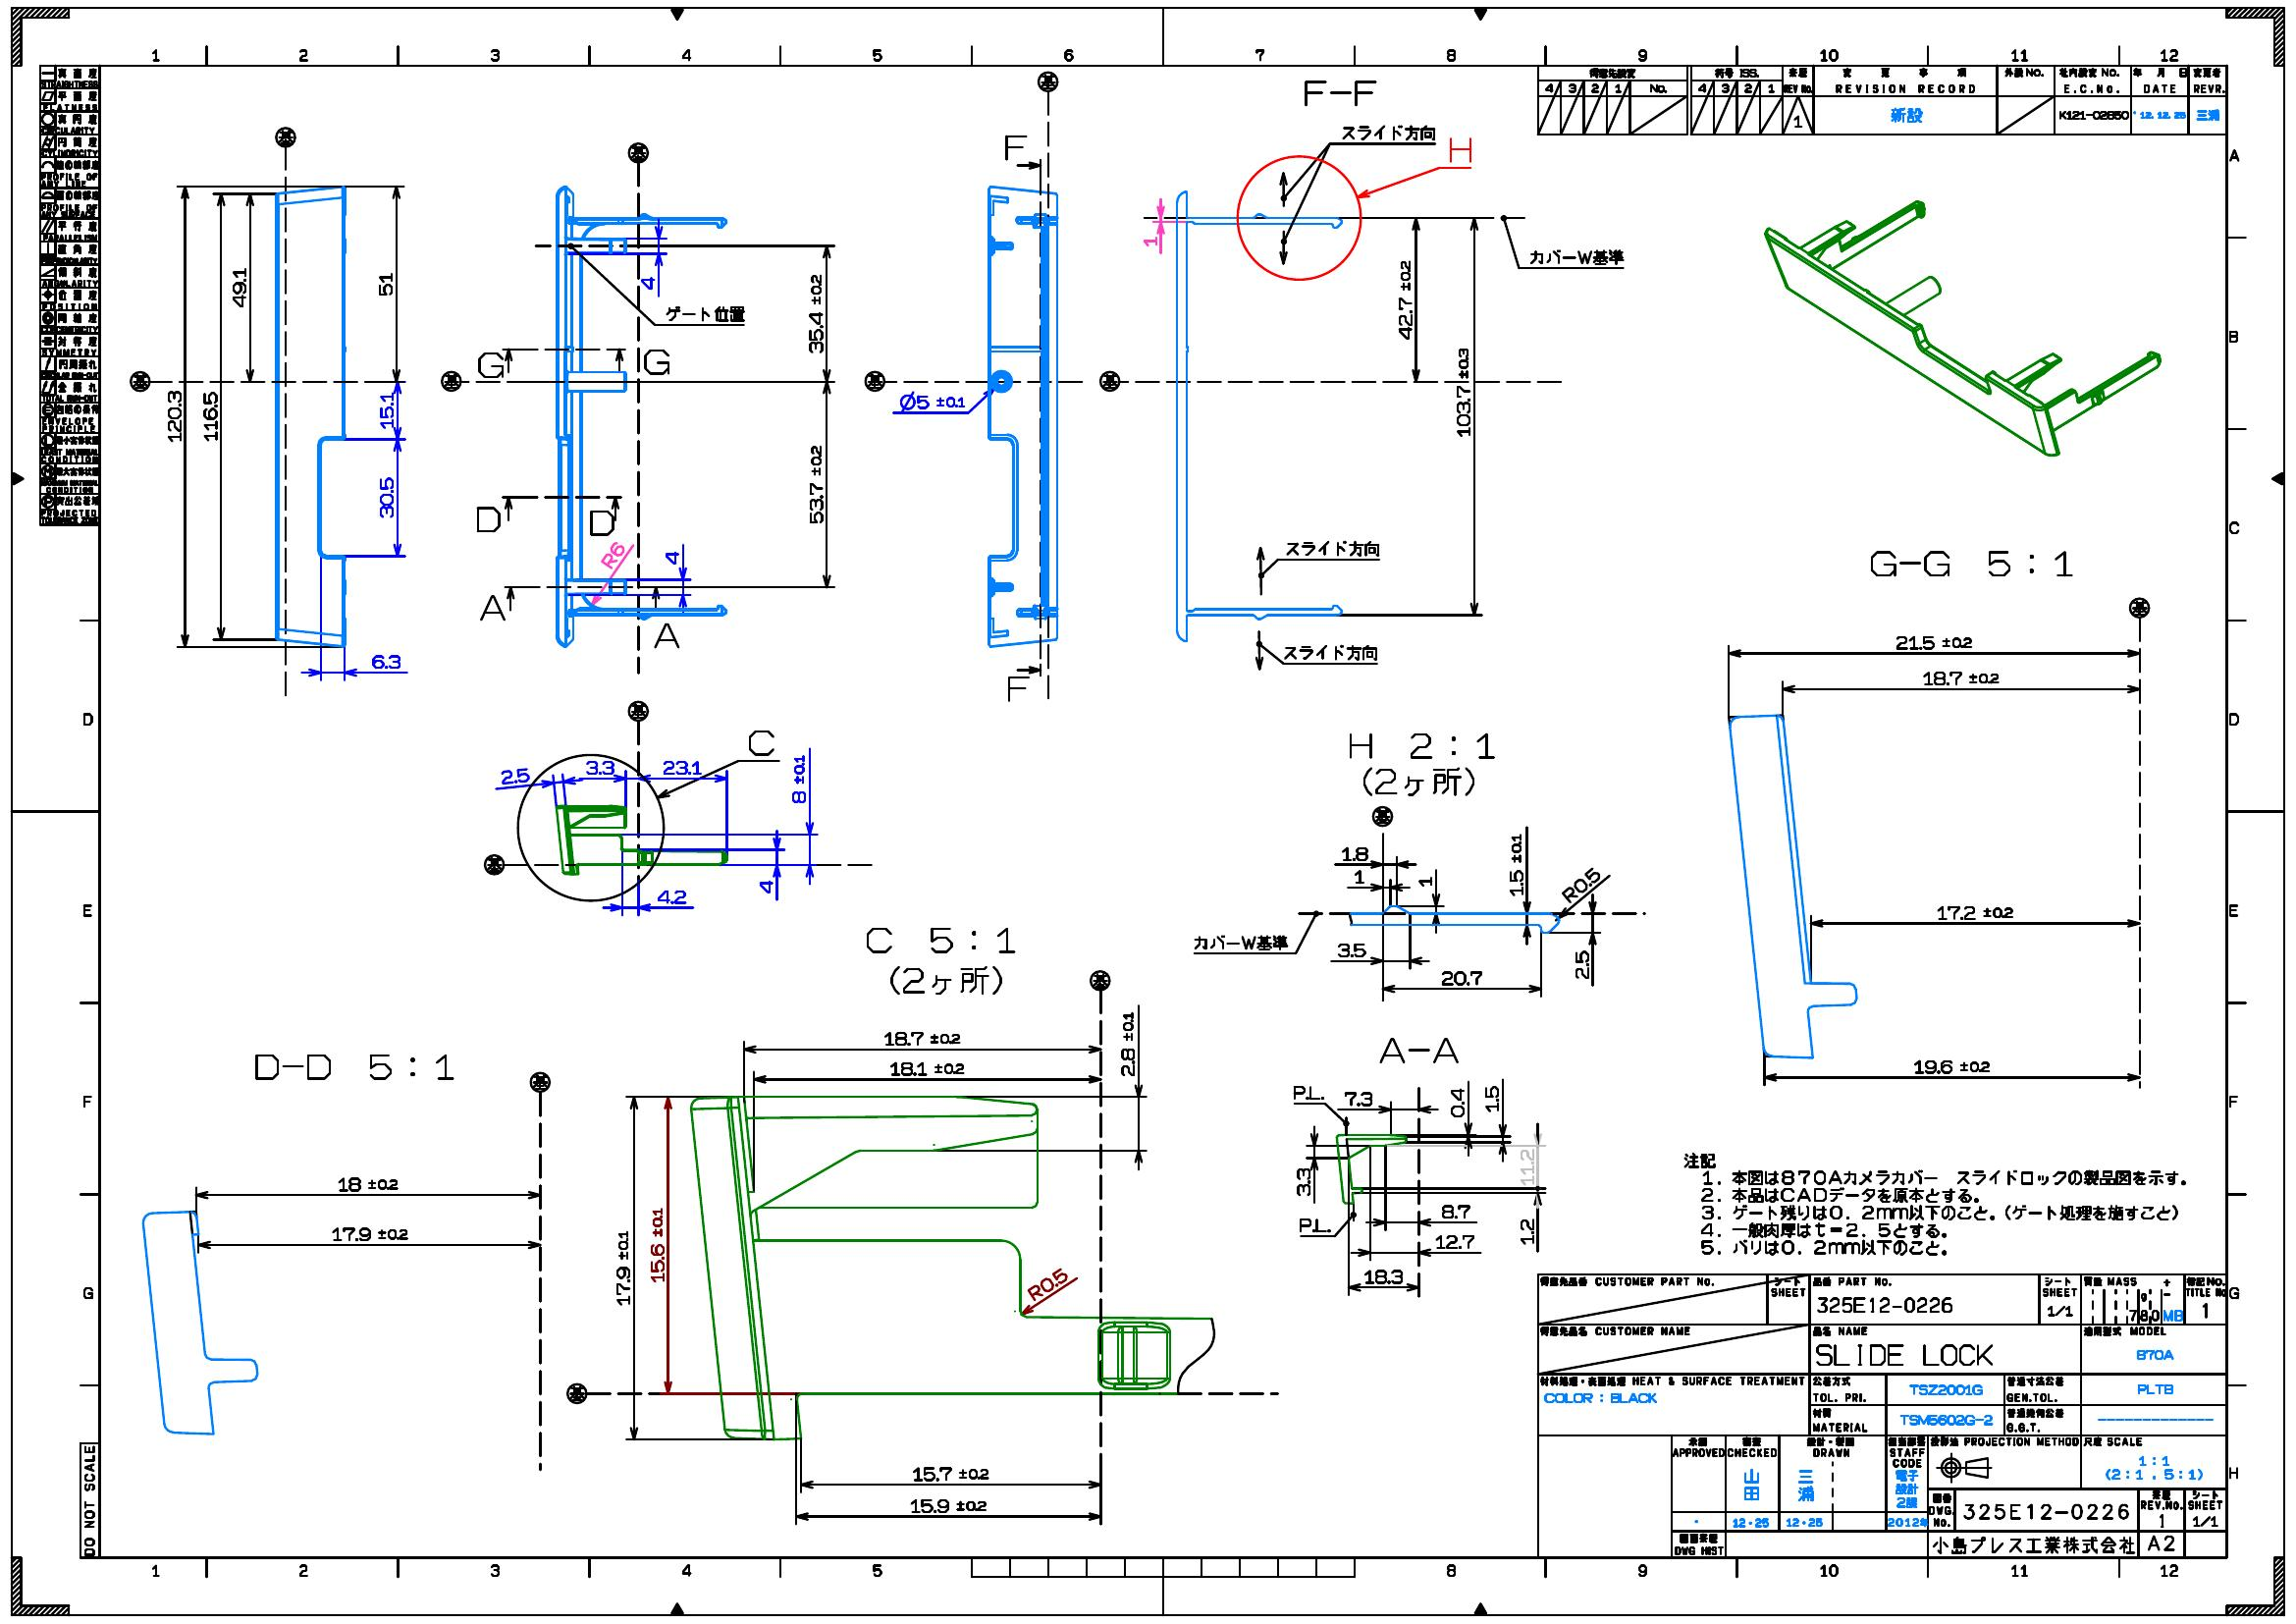anntotation_text: (1683, 1149, 2192, 1265), (861, 924, 1022, 1000), (1340, 731, 1504, 800), (249, 1048, 457, 1088), (1866, 548, 2082, 582), (1298, 76, 1381, 112), (1525, 244, 1628, 267), (1375, 1035, 1465, 1062), (79, 1443, 98, 1559), (1281, 642, 1379, 663), (1188, 933, 1288, 953), (1282, 538, 1383, 557), (1342, 123, 1435, 141), (662, 304, 747, 323), (743, 726, 778, 761), (1442, 135, 1476, 169), (650, 622, 682, 656), (585, 506, 617, 540), (469, 504, 501, 538), (1000, 128, 1031, 162), (476, 346, 506, 380), (641, 350, 671, 383), (478, 592, 508, 624), (1003, 671, 1033, 703), (271, 123, 302, 153), (434, 367, 466, 397), (857, 366, 889, 395), (1093, 366, 1124, 395), (1031, 67, 1063, 97), (123, 366, 153, 395), (624, 137, 655, 165), (1295, 1213, 1333, 1236), (1289, 1081, 1325, 1102), (1086, 968, 1114, 995), (625, 698, 652, 726), (1368, 805, 1398, 830), (564, 1378, 588, 1406), (481, 852, 506, 881), (527, 1067, 550, 1095), (2127, 596, 2152, 620)
dimension_text: (1917, 666, 2003, 691), (1932, 900, 2017, 924), (1455, 343, 1474, 441), (885, 1055, 966, 1077), (910, 1464, 996, 1485), (1908, 1055, 1992, 1076), (611, 1225, 632, 1309), (330, 1223, 411, 1244), (1892, 634, 1980, 654), (805, 271, 824, 355), (880, 1030, 964, 1049), (906, 1494, 991, 1513), (896, 388, 964, 411), (646, 1204, 666, 1285), (1395, 257, 1412, 344), (806, 441, 824, 526), (1119, 1009, 1138, 1077), (1507, 831, 1525, 900), (336, 1174, 402, 1192), (199, 388, 220, 443), (1017, 1278, 1072, 1297), (1432, 1230, 1479, 1251), (165, 387, 183, 443), (1555, 874, 1606, 893), (1363, 1265, 1405, 1288), (378, 476, 397, 522), (1439, 967, 1484, 986), (791, 752, 806, 807), (596, 541, 636, 562), (1339, 1086, 1377, 1107), (1437, 1200, 1474, 1222), (232, 264, 248, 311), (1572, 944, 1592, 982), (1295, 1164, 1314, 1202), (1481, 1081, 1500, 1118), (1518, 1144, 1535, 1185), (662, 758, 703, 775), (1448, 1084, 1467, 1120), (379, 390, 395, 432), (1335, 940, 1368, 960), (655, 886, 687, 905), (369, 652, 402, 670), (1337, 844, 1370, 861), (1518, 1214, 1535, 1246), (499, 766, 531, 784), (585, 759, 617, 775), (1140, 232, 1163, 253), (378, 271, 393, 299), (755, 877, 776, 895), (662, 550, 682, 566), (1349, 868, 1365, 886), (639, 274, 655, 292), (1418, 872, 1433, 889)
object: (687, 1093, 1219, 1443), (1755, 195, 2164, 469), (550, 181, 731, 650), (1173, 188, 1342, 649), (1725, 710, 1860, 1060), (984, 181, 1065, 649), (271, 181, 348, 649), (139, 1207, 262, 1438), (550, 801, 733, 879), (1347, 903, 1565, 935), (1332, 1130, 1409, 1204)
title_block: (1539, 1274, 2227, 1561), (1535, 65, 2226, 134), (37, 63, 98, 524)
